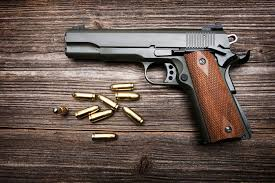gun: (62, 24, 257, 145)
